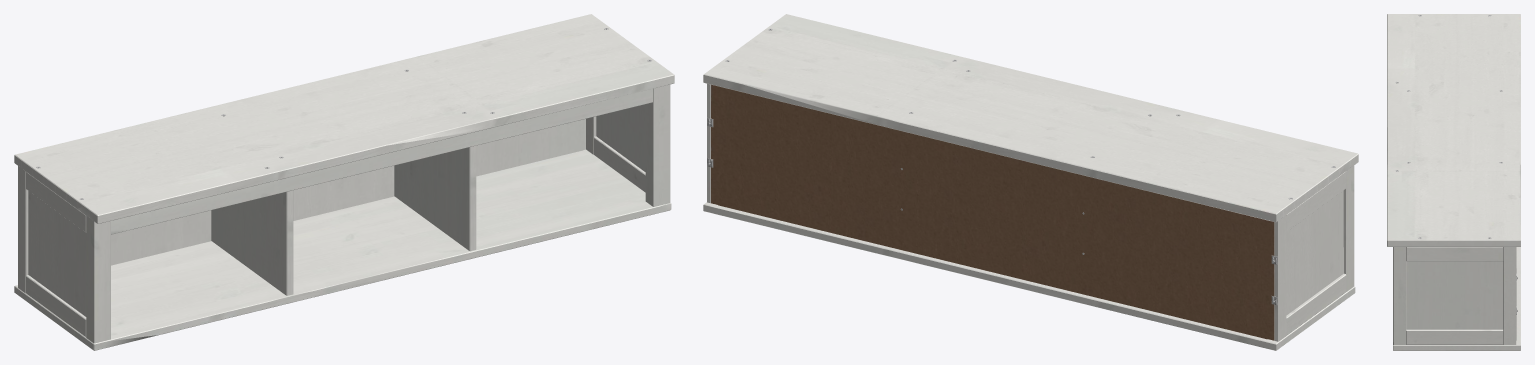
File: hemnes_poka_scienna_60297220.glb
3 views of the same model, side by side, from view 1: azimuth 30°, elevation 25°; view 2: azimuth 150°, elevation 25°; view 3: azimuth 270°, elevation 25° (orthographic). The views are drawn at different scales.
Visible parts, largest first — view 1: hemnes_poka_scienna_60297220; view 2: hemnes_poka_scienna_60297220; view 3: hemnes_poka_scienna_60297220.
Part boxes in pixels (x1=…): hemnes_poka_scienna_60297220: x1=14, y1=14, x2=674, y2=350; hemnes_poka_scienna_60297220: x1=703, y1=14, x2=1358, y2=350; hemnes_poka_scienna_60297220: x1=1387, y1=14, x2=1520, y2=350.
Bounding box in the file's own units: 1.48 × 0.34 × 0.37.
1 material, 1 textured.
